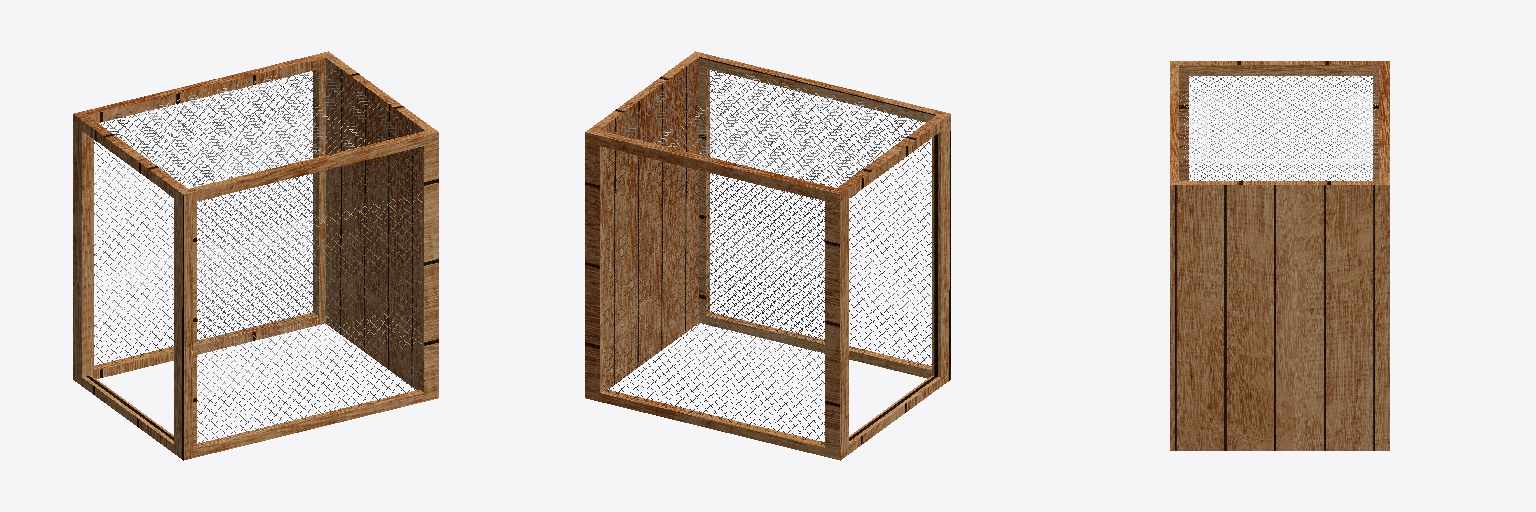
The picture shows the model from 3 angles: view 1: azimuth 30°, elevation 25°; view 2: azimuth 150°, elevation 25°; view 3: azimuth 270°, elevation 25°; orthographic projection.
Parts seen in each view (by area): view 1: cabina; view 2: cabina; view 3: cabina.
Part boxes in pixels (x1,y1,x2,y2): cabina: (73,51,438,460); cabina: (585,51,950,460); cabina: (1170,61,1389,450).
Bounding box in the file's own units: 32.25 × 32.09 × 24.15.
2 materials, 2 textured.